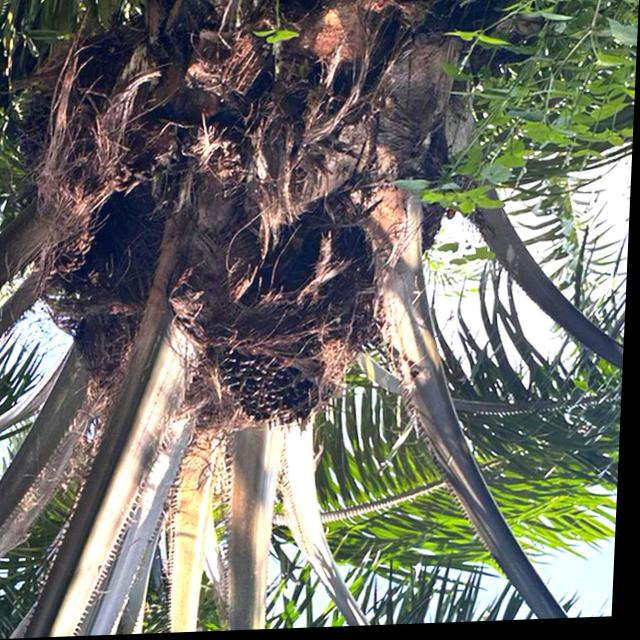ripe: (210, 326, 337, 441)
